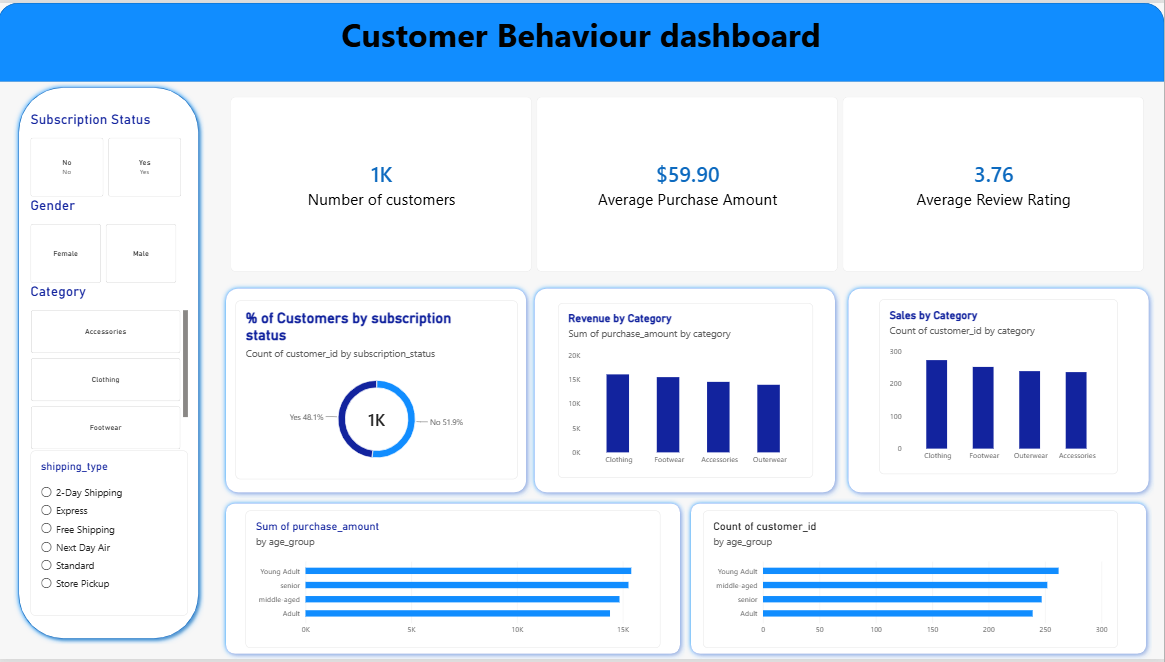

What the dashboard file says about the page in this screenshot:
{"tool":"powerbi","page":{"name":"Page 1","canvas":[1920,1080],"ordinal":0},"visuals":[{"type":"cardVisual","fields":{"Data":["shopping_analysis my_table.Number of customers","shopping_analysis my_table.Average Purchase Amount","shopping_analysis my_table.Average Review Rating"]},"box":[382.8,154.4,1506.7,288.2],"z":0},{"type":"shape","box":[0,0,1920.4,129.7],"z":1},{"type":"textbox","box":[0,487,1920,150],"z":2},{"type":"textbox","box":[0,14.4,1920.4,115.3],"z":3},{"type":"shape","box":[366.4,461.1,512.5,354],"z":4},{"type":"donutChart","title":"% of Customers by subscription status","fields":{"Category":["shopping_analysis my_table.subscription_status"],"Y":["CountNonNull(shopping_analysis my_table.customer_id)"]},"box":[391.1,489.9,465.2,294.3],"z":5},{"type":"shape","box":[1391.4,461.1,512.5,354],"z":6},{"type":"shape","box":[874.8,461.1,512.5,354],"z":7},{"type":"clusteredColumnChart","title":"Revenue by Category","fields":{"Category":["shopping_analysis my_table.category"],"Y":["Sum(shopping_analysis my_table.purchase_amount)"]},"box":[922.1,494,419.9,288.2],"z":8},{"type":"clusteredColumnChart","title":"Sales by Category","fields":{"Category":["shopping_analysis my_table.category"],"Y":["CountNonNull(shopping_analysis my_table.customer_id)"]},"box":[1451.1,487.8,393.1,288.2],"z":9},{"type":"shape","box":[24.7,129.7,314.9,926.2],"z":10},{"type":"advancedSlicerVisual","title":"Subscription Status","fields":{"Label":["Min(shopping_analysis my_table.subscription_status)"],"Values":["shopping_analysis my_table.subscription_status"]},"box":[53.5,177,249.1,142],"z":11},{"type":"advancedSlicerVisual","title":"Gender","fields":{"Values":["shopping_analysis my_table.gender"]},"box":[53.5,319,240.8,142],"z":12},{"type":"advancedSlicerVisual","title":"Category","fields":{"Values":["shopping_analysis my_table.category"]},"box":[53.5,461.1,259.3,275.8],"z":13},{"type":"listSlicer","fields":{"Values":["shopping_analysis my_table.shipping_type"]},"box":[53.5,736.9,259.3,271.7],"z":14},{"type":"shape","box":[366.4,815.1,765.7,265.5],"z":16},{"type":"shape","box":[1132.1,815.1,767.8,265.5],"z":17},{"type":"clusteredBarChart","fields":{"Category":["shopping_analysis my_table.age_group"],"Y":["Sum(shopping_analysis my_table.purchase_amount)"]},"box":[407.5,835.7,683.4,226.4],"z":18},{"type":"clusteredBarChart","fields":{"Category":["shopping_analysis my_table.age_group"],"Y":["CountNonNull(shopping_analysis my_table.customer_id)"]},"box":[1160.9,835.7,683.4,226.4],"z":19}]}

Visuals, with their boxes in screenshot pixels (x1, y1, x2, y2), scaled from the page's 1920x1080 canvas onto the 1165x662 screenshot:
cardVisual - shopping_analysis my_table.Number of customers x shopping_analysis my_table.Average Purchase Amount: 232 95 1146 271
shape: 0 0 1164 80
textbox: 0 299 1164 390
textbox: 0 9 1164 80
shape: 222 283 533 500
"% of Customers by subscription status" donutChart: 237 300 520 481
shape: 844 283 1155 500
shape: 531 283 842 500
"Revenue by Category" clusteredColumnChart: 560 303 814 479
"Sales by Category" clusteredColumnChart: 880 299 1119 476
shape: 15 80 206 647
"Subscription Status" advancedSlicerVisual: 32 108 184 196
"Gender" advancedSlicerVisual: 32 196 179 283
"Category" advancedSlicerVisual: 32 283 190 452
listSlicer - shopping_analysis my_table.shipping_type: 32 452 190 618
shape: 222 500 687 661
shape: 687 500 1153 661
clusteredBarChart - shopping_analysis my_table.age_group x Sum(shopping_analysis my_table.purchase_amount): 247 512 662 651
clusteredBarChart - shopping_analysis my_table.age_group x CountNonNull(shopping_analysis my_table.customer_id): 704 512 1119 651
